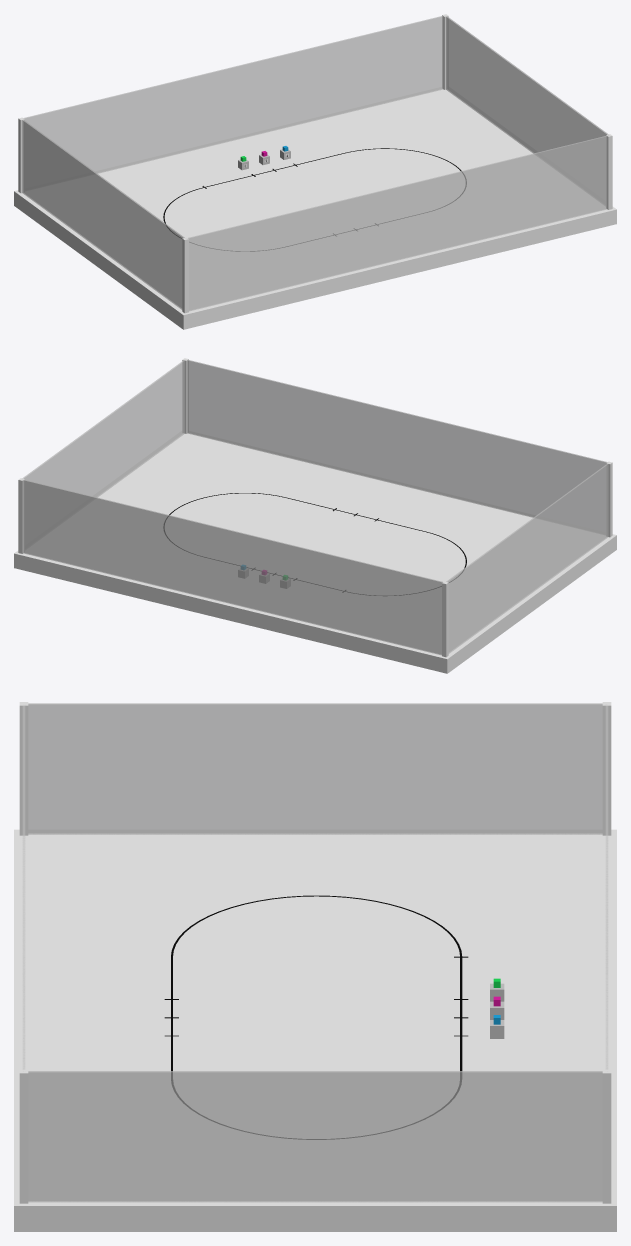
Rendered from JLURM2.dae.
3 views of the same model, one above another, from view 1: azimuth 30°, elevation 25°; view 2: azimuth 150°, elevation 25°; view 3: azimuth 270°, elevation 25° (orthographic). The views are drawn at different scales.
Visible parts, largest first — view 1: Ground, Wall_02.001, Wall_02.002, Wall_02.003, Wall_02.004, Wall_01.004, Wall_01.001, Wall_01.003, Wall_01.002, Line_01; view 2: Ground, Wall_02.002, Wall_02.001, Wall_02.003, Wall_02.004, Wall_01.003, Wall_01.002, Wall_01.004, Wall_01.001, Line_01; view 3: Ground, Wall_02.003, Wall_02.004, Line_01, Wall_02.001, Wall_02.002, Wall_01.004, Wall_01.003, Wall_01.002, Wall_01.001.
Part boxes in pixels (x1,y1,x2,y2): Ground: [14, 87, 616, 329]; Wall_02.001: [186, 135, 608, 311]; Wall_02.002: [22, 15, 443, 190]; Wall_02.003: [22, 119, 185, 309]; Wall_02.004: [446, 16, 608, 205]; Wall_01.004: [606, 134, 612, 209]; Wall_01.001: [182, 237, 188, 313]; Wall_01.003: [442, 14, 448, 89]; Wall_01.002: [18, 117, 24, 193]; Line_01: [163, 148, 466, 251]; Ground: [14, 431, 616, 673]; Wall_02.002: [22, 479, 443, 655]; Wall_02.001: [187, 359, 608, 534]; Wall_02.003: [446, 463, 608, 653]; Wall_02.004: [22, 360, 184, 549]; Wall_01.003: [18, 478, 24, 553]; Wall_01.002: [442, 581, 448, 657]; Wall_01.004: [182, 358, 188, 433]; Wall_01.001: [606, 461, 612, 537]; Line_01: [163, 493, 466, 595]; Ground: [14, 829, 616, 1231]; Wall_02.003: [28, 703, 602, 834]; Wall_02.004: [28, 1071, 602, 1202]; Line_01: [171, 895, 462, 1139]; Wall_02.001: [22, 705, 25, 1071]; Wall_02.002: [605, 705, 608, 1071]; Wall_01.004: [19, 1069, 28, 1203]; Wall_01.003: [602, 1069, 611, 1203]; Wall_01.002: [602, 702, 611, 835]; Wall_01.001: [19, 702, 28, 835].
Bounding box in the file's own units: 6.2 × 4.2 × 1.2.
Materials: 10 (3 with a texture image).
